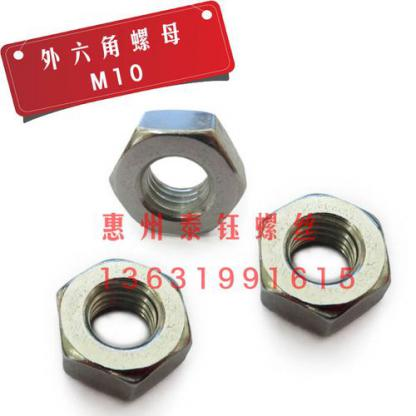FOD: (254, 191, 392, 339), (55, 258, 190, 403), (106, 108, 250, 238)
